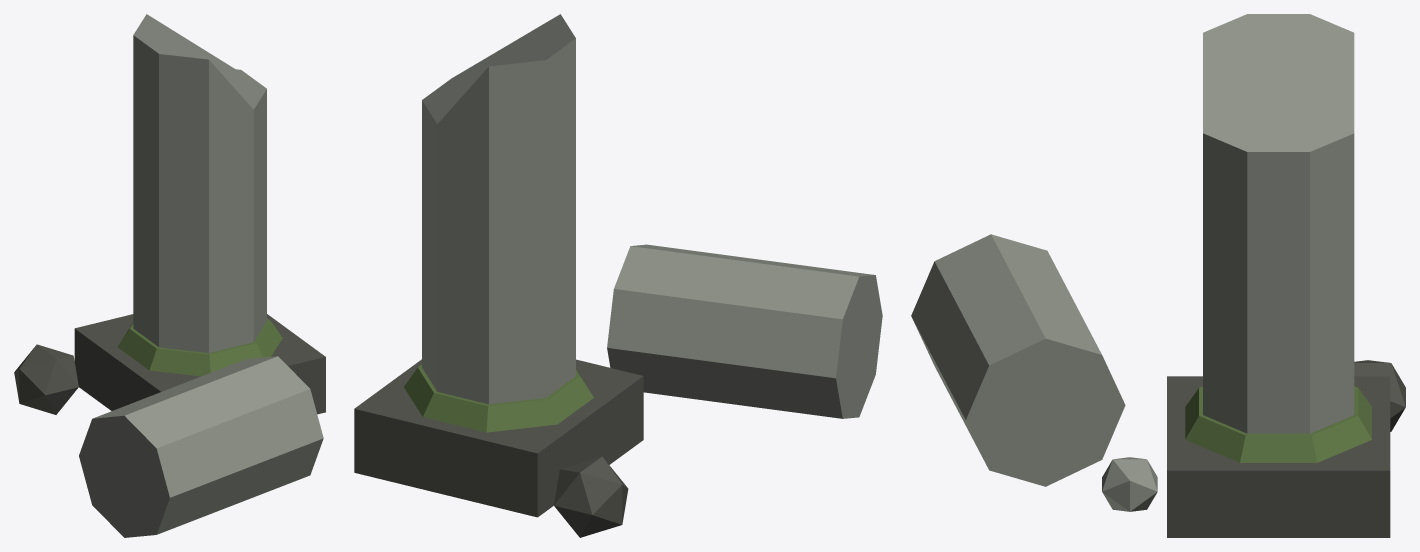
Rendered from broken.glb.
3 renders of one model, left to right at view 1: azimuth 30°, elevation 25°; view 2: azimuth 150°, elevation 25°; view 3: azimuth 270°, elevation 25°, orthographic. The views are drawn at different scales.
Parts seen in each view (by area): view 1: Shaft, Drum, Plinth, MossRing, Chip0; view 2: Shaft, Drum, Plinth, MossRing, Chip0; view 3: Shaft, Drum, Plinth, MossRing, Chip1, Chip0.
Boxes of the visible parts, box(x1,y1,x2,y2) form: Shaft: box(133, 14, 266, 352); Drum: box(79, 356, 323, 537); Plinth: box(74, 314, 325, 414); MossRing: box(118, 318, 282, 376); Chip0: box(14, 344, 78, 414); Shaft: box(422, 14, 575, 404); Drum: box(607, 244, 882, 418); Plinth: box(354, 359, 643, 517); MossRing: box(404, 364, 593, 432); Chip0: box(554, 456, 628, 537); Shaft: box(1203, 14, 1354, 433); Drum: box(911, 234, 1125, 486); Plinth: box(1167, 376, 1390, 537); MossRing: box(1185, 386, 1371, 462); Chip1: box(1102, 457, 1157, 511); Chip0: box(1354, 360, 1405, 431).
Bounding box in the file's own units: 2.7 × 3.38 × 3.33.
